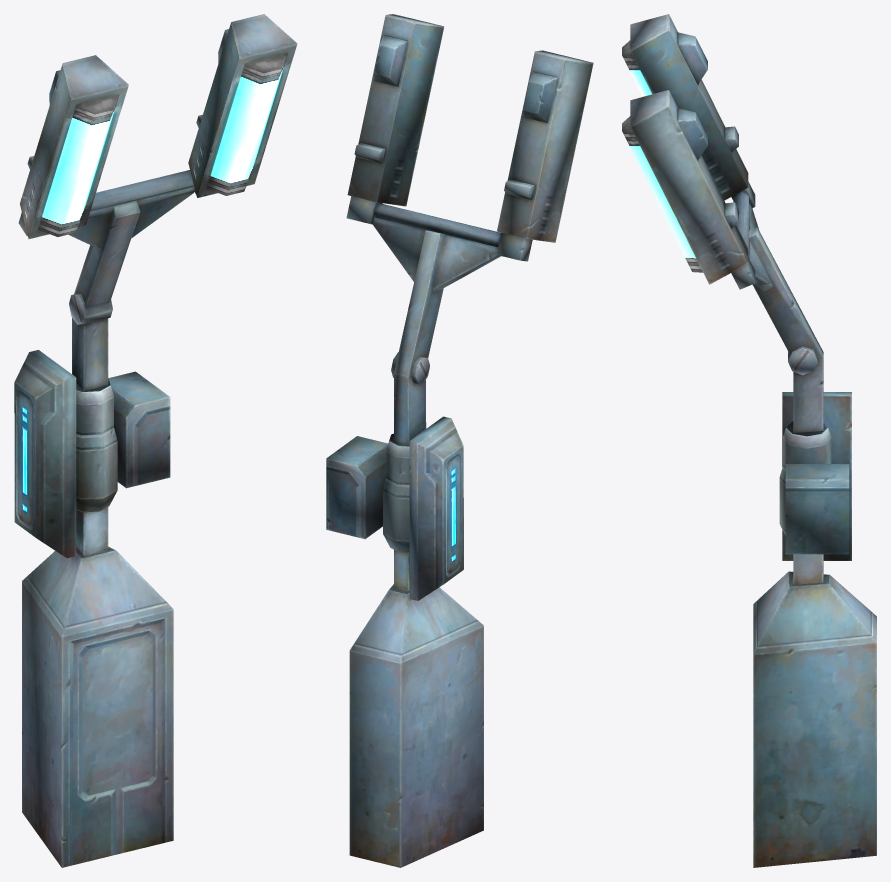
Rendered from kor_vodl_item_floodlight.glb.
3 renders of one model, left to right at view 1: azimuth 30°, elevation 25°; view 2: azimuth 150°, elevation 25°; view 3: azimuth 270°, elevation 25°, orthographic. The views are drawn at different scales.
Visible parts, largest first — view 1: kor_vodl_item_floodlight; view 2: kor_vodl_item_floodlight; view 3: kor_vodl_item_floodlight.
Part boxes in pixels (x1,y1,x2,y2): kor_vodl_item_floodlight: (14,14,297,867); kor_vodl_item_floodlight: (326,14,593,867); kor_vodl_item_floodlight: (622,14,876,867).
Bounding box in the file's own units: 0.1969 × 0.7066 × 0.2083.
1 material, 1 textured.
